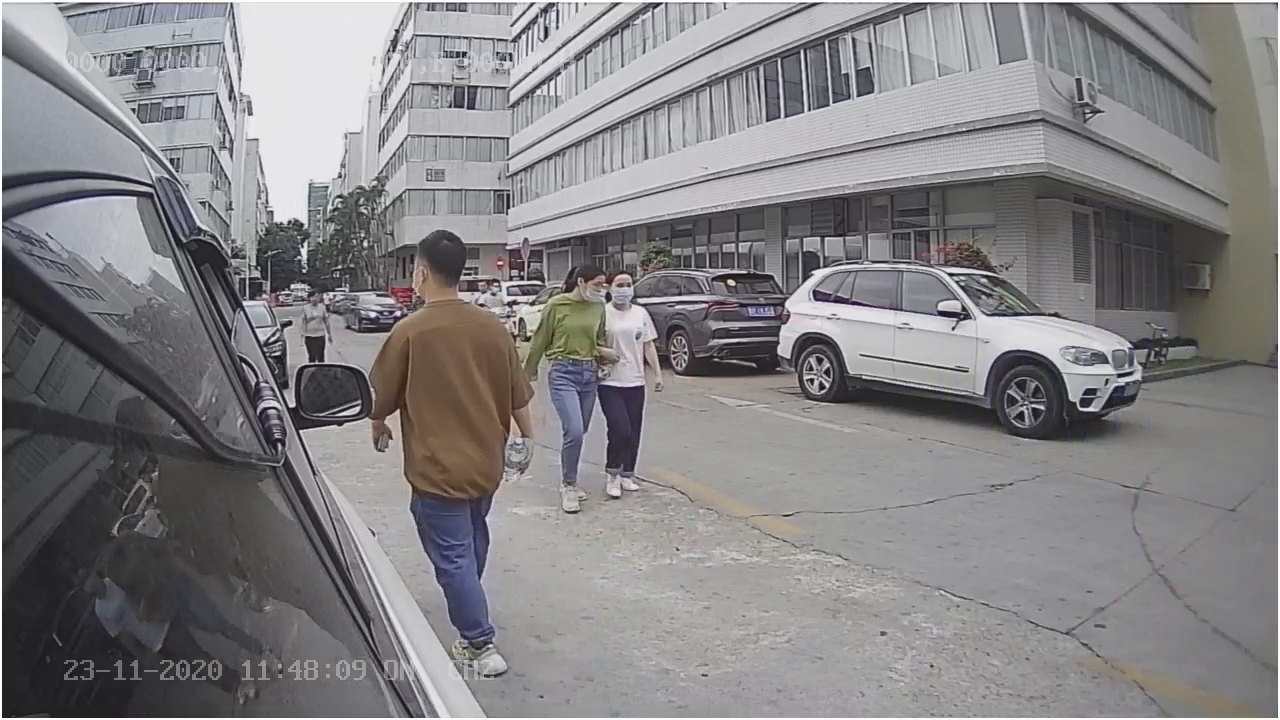person: (373, 224, 538, 492)
